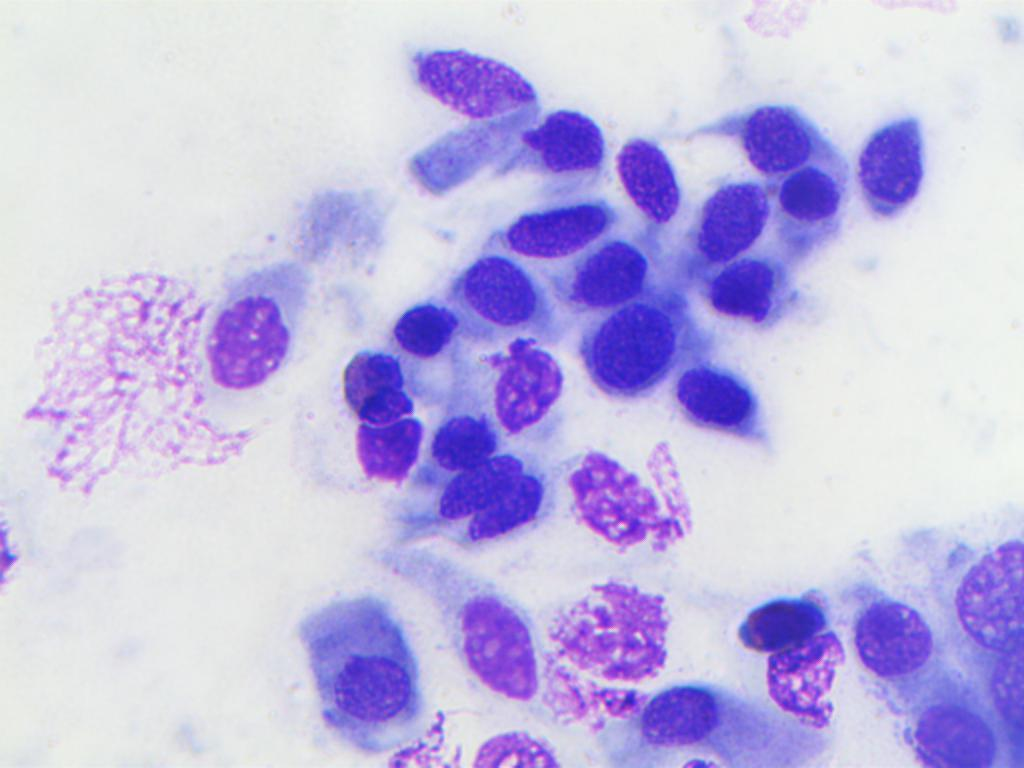artifact: (46, 264, 193, 480), (550, 579, 662, 721)
ciliated: (406, 39, 553, 195)
epithelial: (559, 443, 694, 570), (292, 596, 421, 724), (920, 515, 1024, 658), (199, 268, 295, 396), (854, 99, 945, 223), (440, 579, 531, 703), (568, 303, 675, 403), (883, 692, 1020, 768), (704, 167, 788, 289), (473, 339, 572, 442), (512, 99, 620, 174), (606, 138, 690, 229), (455, 252, 543, 335), (429, 447, 530, 518), (697, 255, 785, 336), (676, 350, 764, 431), (851, 596, 939, 677), (633, 672, 721, 753), (495, 207, 619, 264), (460, 473, 550, 551), (727, 105, 812, 169), (566, 239, 651, 303), (428, 411, 506, 476), (392, 297, 464, 362), (773, 164, 841, 222)
neutrophil: (720, 575, 839, 652), (335, 349, 423, 424), (344, 416, 428, 483)
